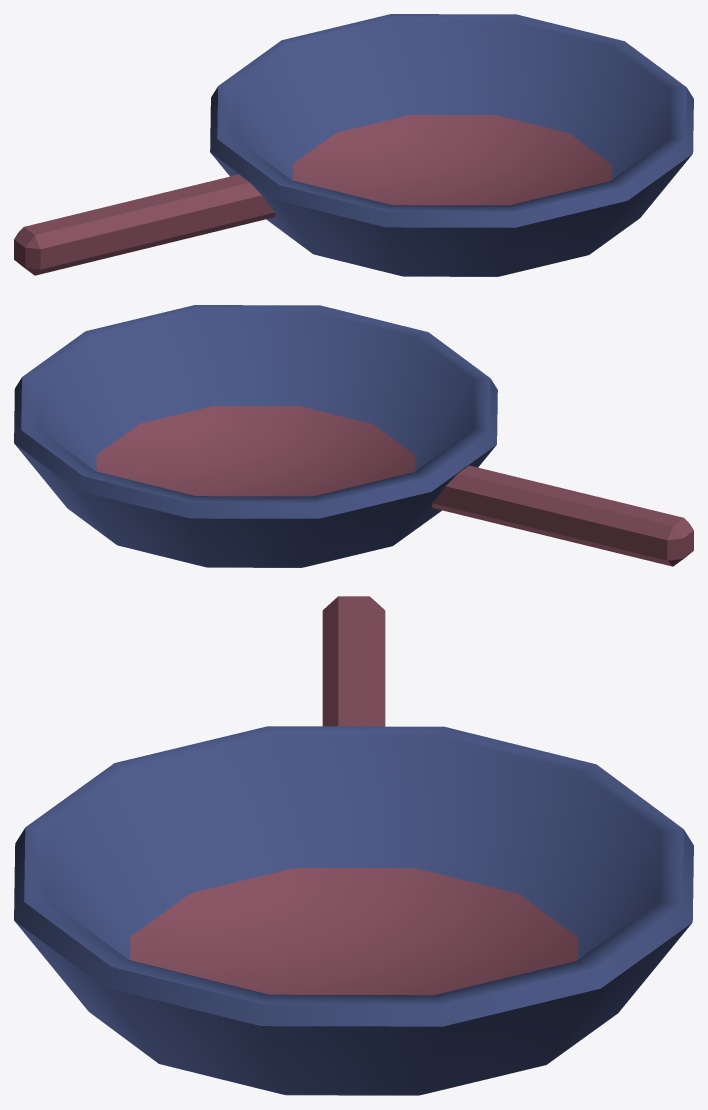
File: stekpanna.fbx
3 views of the same model, one above another, from view 1: azimuth 30°, elevation 25°; view 2: azimuth 150°, elevation 25°; view 3: azimuth 270°, elevation 25° (orthographic). The views are drawn at different scales.
Visible parts, largest first — view 1: stekpanna; view 2: stekpanna; view 3: stekpanna.
Boxes of the visible parts, x1,y1,x2,y2 form: stekpanna: (14, 14, 693, 276); stekpanna: (14, 305, 693, 567); stekpanna: (14, 596, 693, 1095).
Bounding box in the file's own units: 0.6494 × 0.0868 × 0.4239.
